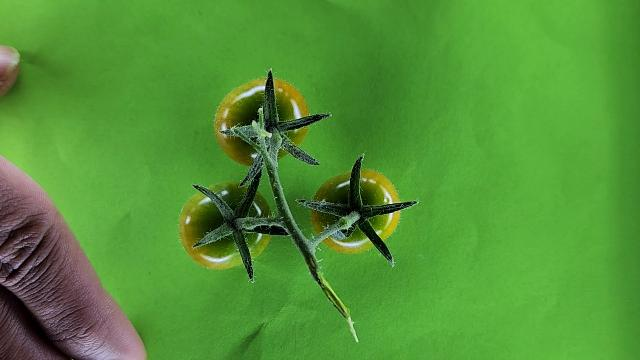Fully Grown: (213, 77, 311, 165), (178, 181, 273, 270), (310, 168, 403, 254)
